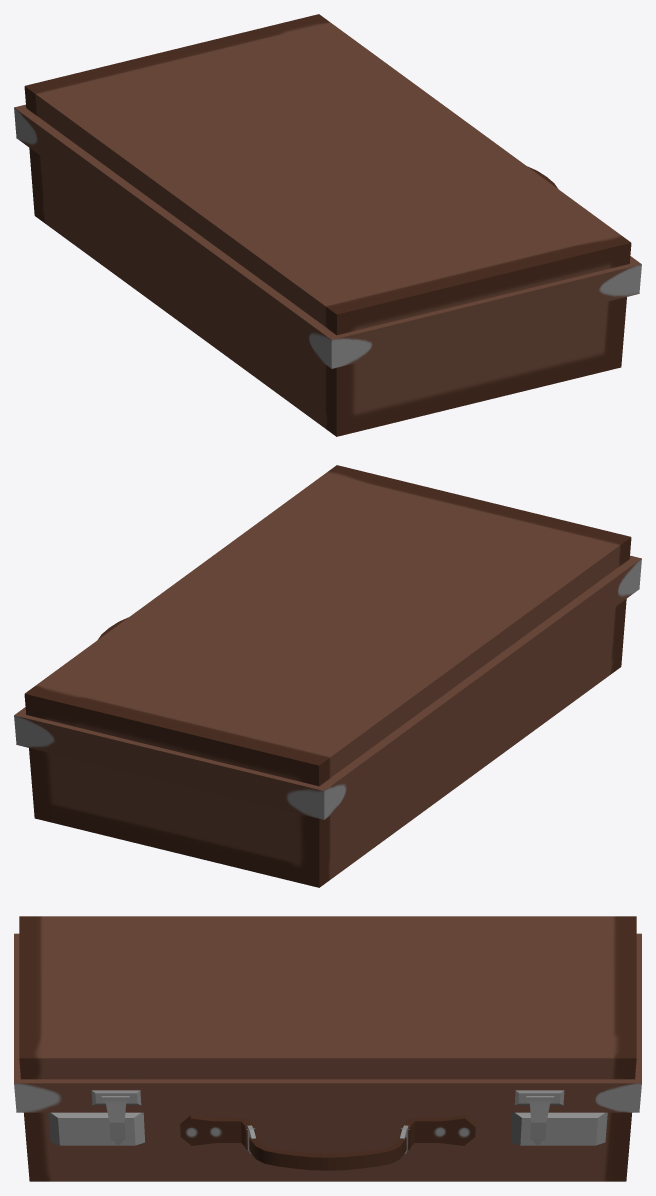
Rendered from w_briefcase.fbx.
The picture shows the model from 3 angles, top to bottom: view 1: azimuth 30°, elevation 25°; view 2: azimuth 150°, elevation 25°; view 3: azimuth 270°, elevation 25°; orthographic projection.
Parts seen in each view (by area): view 1: w_briefcase; view 2: w_briefcase; view 3: w_briefcase.
Boxes of the visible parts, x1=… form: w_briefcase: x1=14, y1=14, x2=641, y2=436; w_briefcase: x1=14, y1=465, x2=641, y2=887; w_briefcase: x1=14, y1=916, x2=641, y2=1181.
Size of the model in its own units: 93.74 by 30.52 by 138.
1 material, 1 textured.
